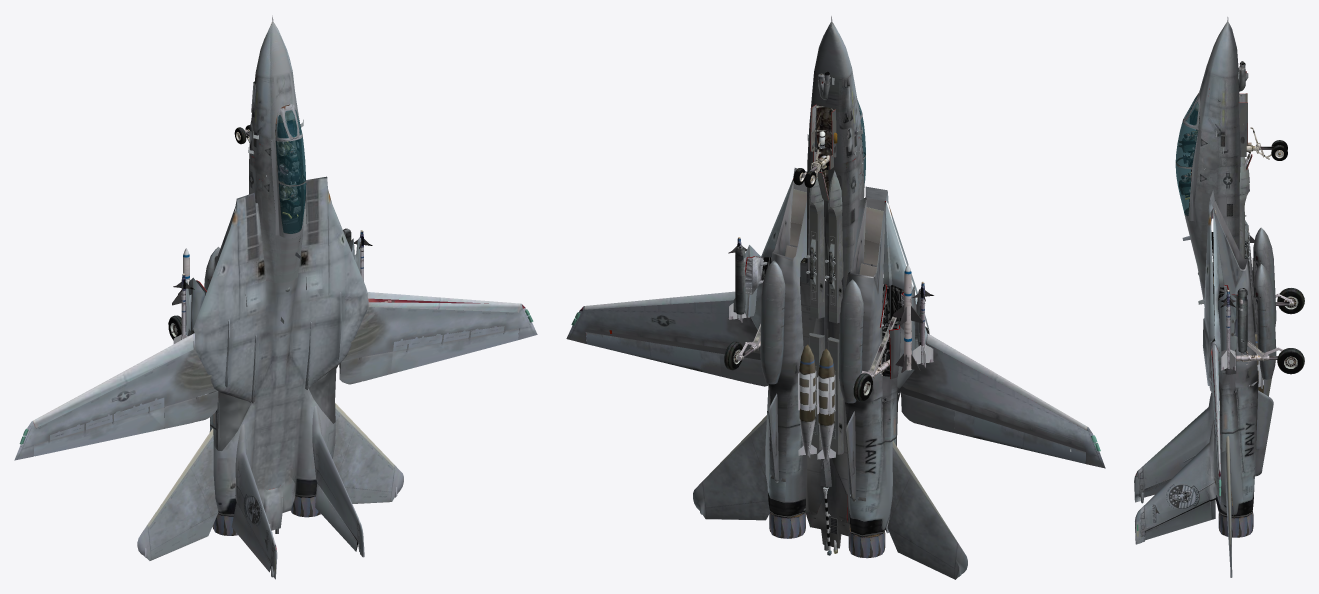
The picture shows the model from 3 angles, left to right: view 1: azimuth 30°, elevation 25°; view 2: azimuth 150°, elevation 25°; view 3: azimuth 270°, elevation 25°; orthographic projection. The views are drawn at different scales.
Visible parts, largest first — view 1: fuselage, Part165, Part174, Part186, Part185, Part28, Part09, Part05, Part181, Part172, Part179, Part183 (+7 smaller); view 2: fuselage, Part174, Part165, Part186, Part185, Part172, Part181, Part146, Part155, Part26, Part178, Part179 (+4 smaller); view 3: fuselage, Part05, Part09, Part28, Part26, Part47, Part169, Part185, Part142, Part132, Part48, Part15 (+4 smaller).
Part boxes in pixels (x1,y1,x2,y2): fuselage: (172,72,372,533); Part165: (343,297,537,360); Part174: (14,333,217,460); Part186: (137,428,218,560); Part185: (332,403,403,503); Part28: (271,135,306,238); Part09: (217,402,277,579); Part05: (312,406,364,557); Part181: (34,407,164,456); Part172: (390,328,518,373); Part179: (33,334,193,428); Part183: (218,365,338,450); fuselage: (728,69,933,553); Part174: (900,333,1105,468); Part165: (566,300,760,359); Part186: (887,441,967,579); Part185: (693,415,769,520); Part172: (586,332,721,376); Part181: (954,410,1085,463); Part146: (798,344,816,457); Part155: (817,348,835,461); Part26: (814,16,852,78); Part178: (901,392,955,432); Part179: (927,334,1087,430); fuselage: (1137,61,1276,530); Part05: (1135,390,1273,544); Part09: (1134,378,1271,503); Part28: (1175,119,1201,221); Part26: (1206,17,1238,77); Part47: (1145,498,1215,540); Part169: (1211,344,1220,474); Part185: (1225,436,1232,577); Part142: (1277,348,1304,374); Part132: (1277,288,1304,314); Part48: (1238,102,1247,147); Part15: (1179,93,1213,218).
Bounding box in the file's own units: 19.72 × 18.85 × 5.69.
Materials: 21 (17 with a texture image).
